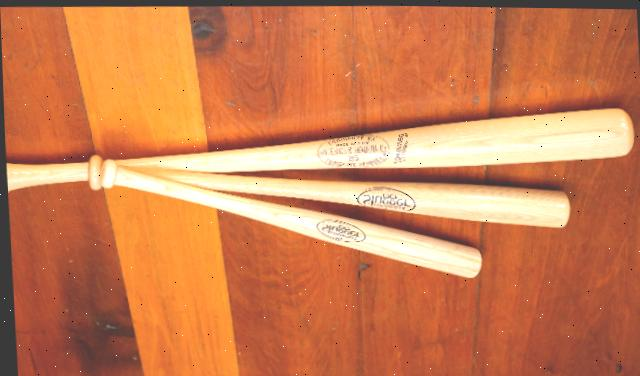baseball bat: (311, 184, 580, 212)
